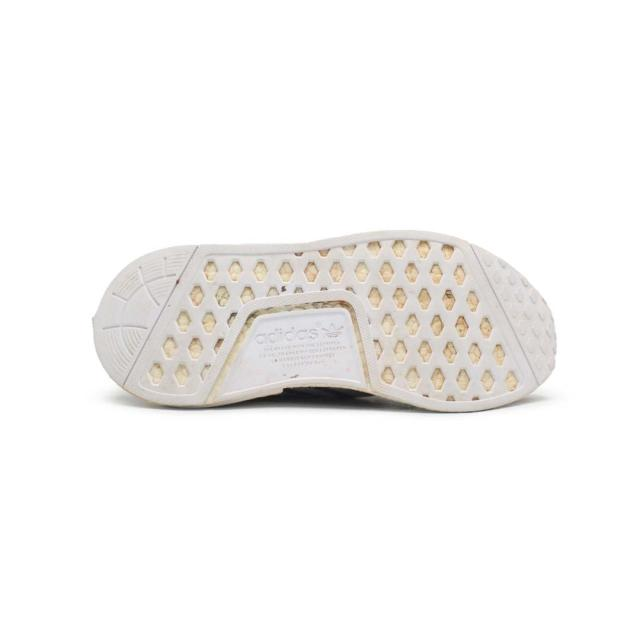outersole: (92, 230, 557, 412)
